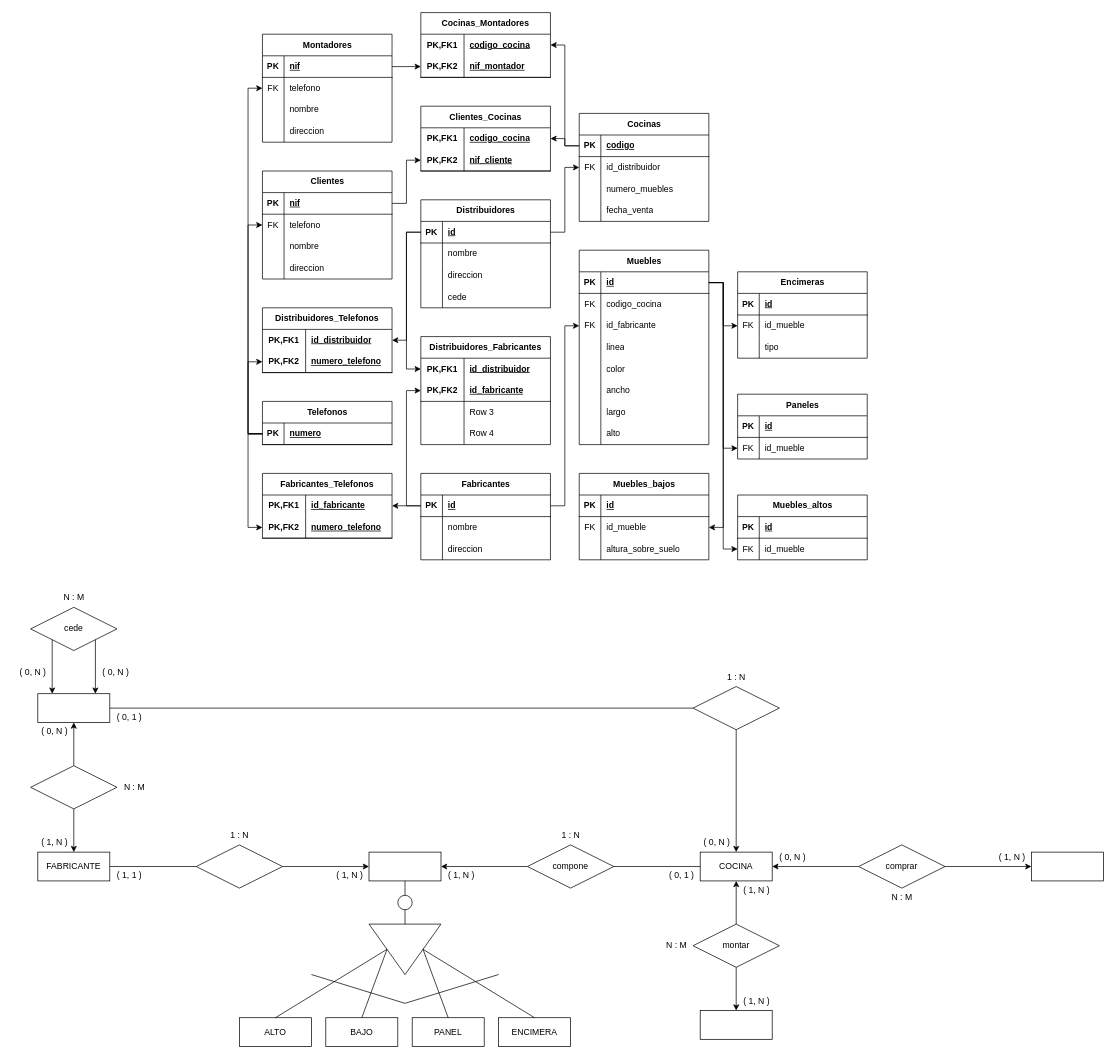
This 1116x1059 diagram has some shape labels left out. The centre of each missing label's shape, as x and y in pixels:
"CLIENTE" belongs at point (1067, 866).
"DISTRIBUIDOR" belongs at point (73, 708).
"fabricar" belongs at point (239, 866).
"MONTADOR" belongs at point (735, 1024).
"MUEBLE" belongs at point (404, 866).
"trabajar" belongs at point (73, 787).
"vender" belongs at point (735, 708).
